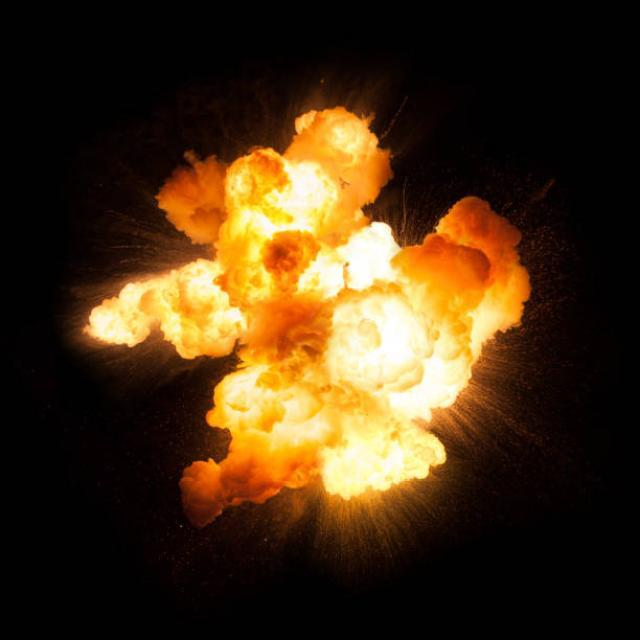fire: (101, 99, 545, 522)
